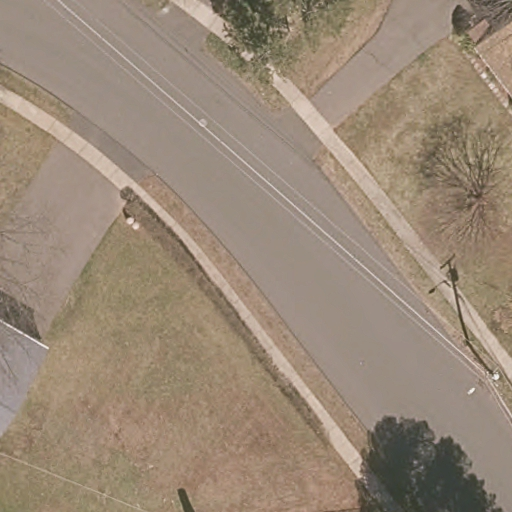DT: (463, 338, 501, 397)
